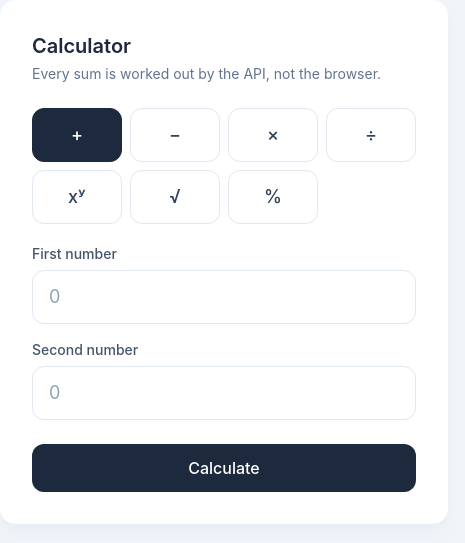
it: displaying the result › renders the expression for a unary operation
Step 1. Click the button named "square root" → x=175, y=197, box [130,170,220,224]
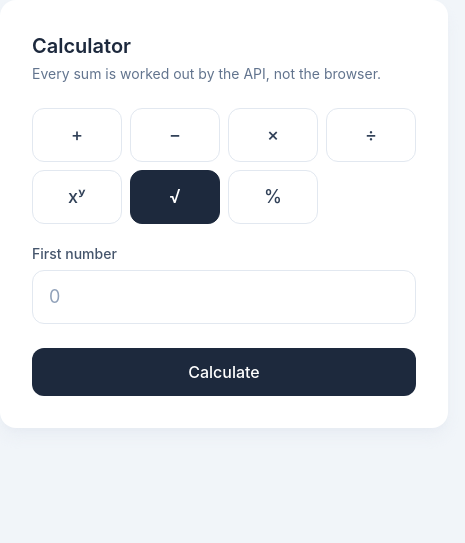
Step 2. Type "81" into the field labelled "First number" → x=224, y=297, box [32,270,416,324]
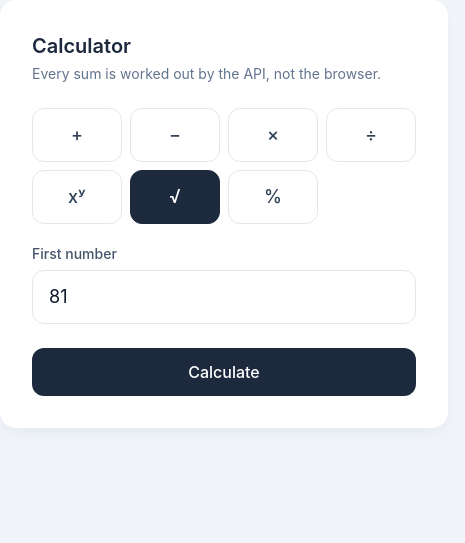
Step 3. Click the button "Calculate" → x=224, y=372, box [32,348,416,396]
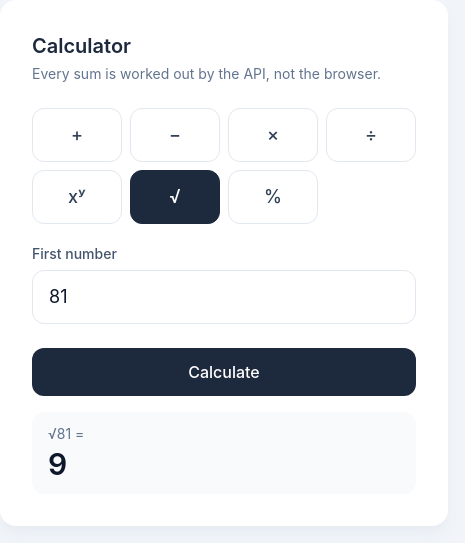
expect the message shows "√81": met, box [48,425,71,442]
